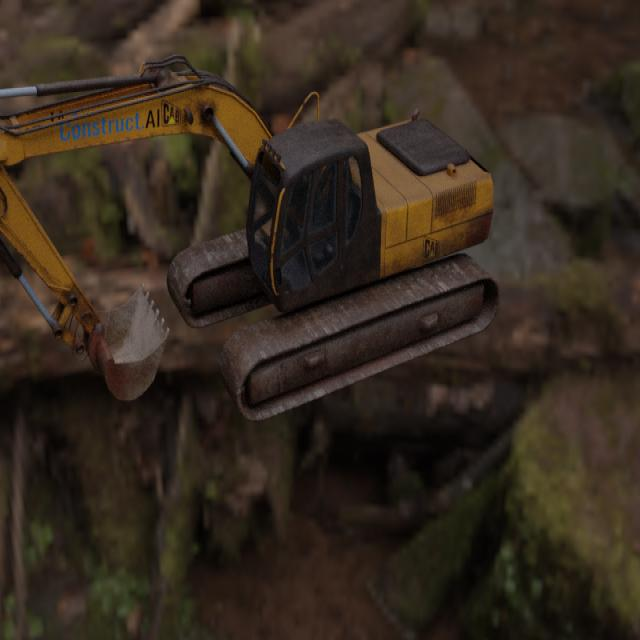excavator: (0, 53, 501, 423)
